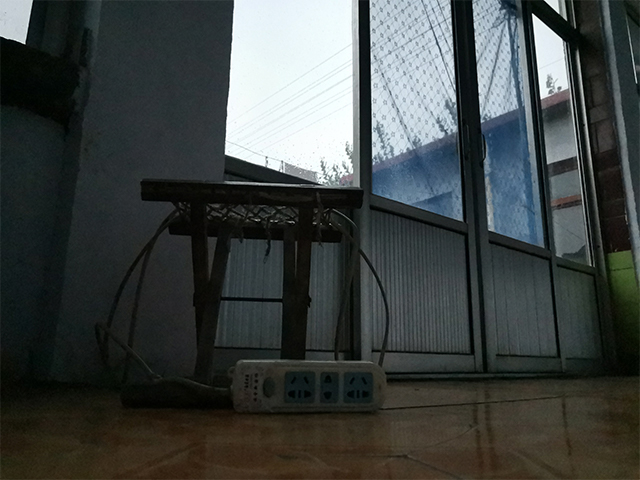stool: (118, 178, 368, 412)
wire: (92, 192, 395, 413)
